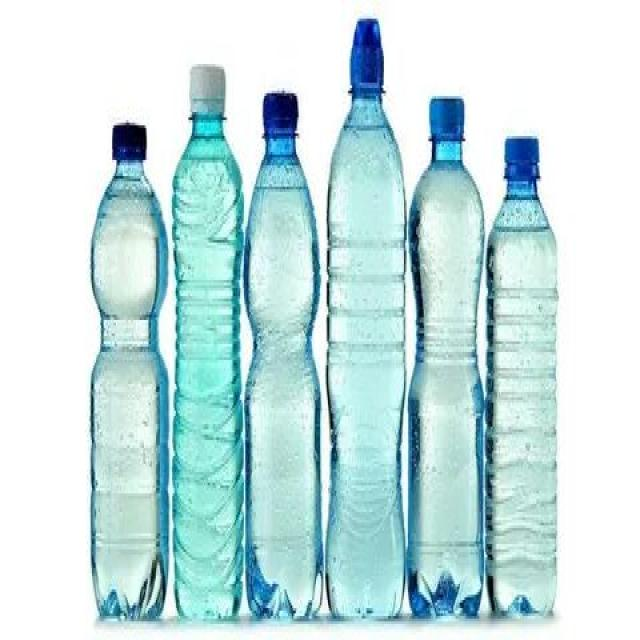blue: (328, 95, 407, 623), (245, 132, 322, 620), (409, 142, 484, 620), (90, 163, 168, 620), (488, 177, 558, 618)
